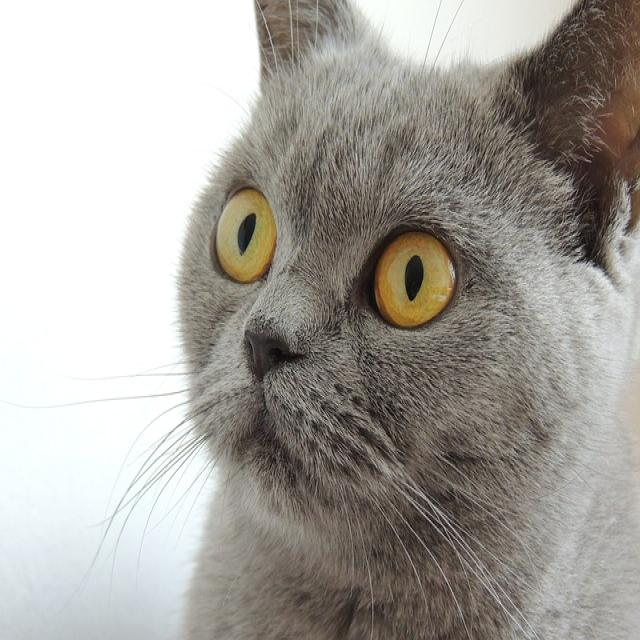cat: (179, 4, 640, 640)
